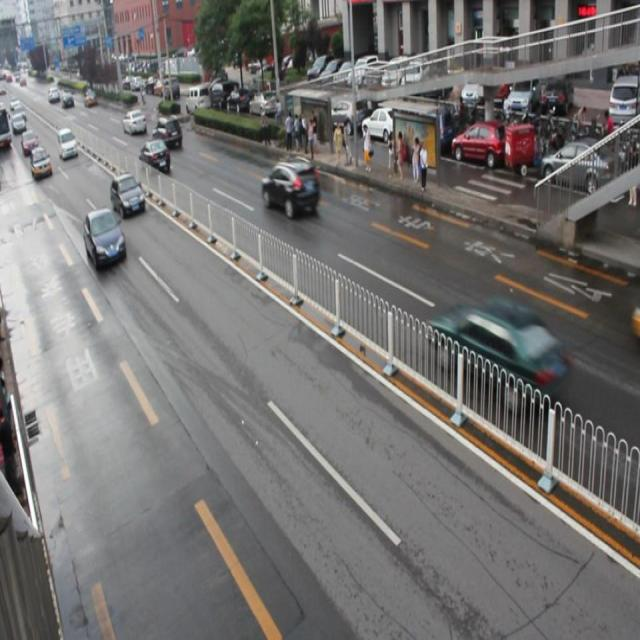car: (426, 294, 566, 408), (260, 156, 320, 217), (83, 208, 126, 264), (111, 173, 145, 216), (151, 113, 183, 149), (139, 140, 171, 173), (121, 109, 148, 135)
